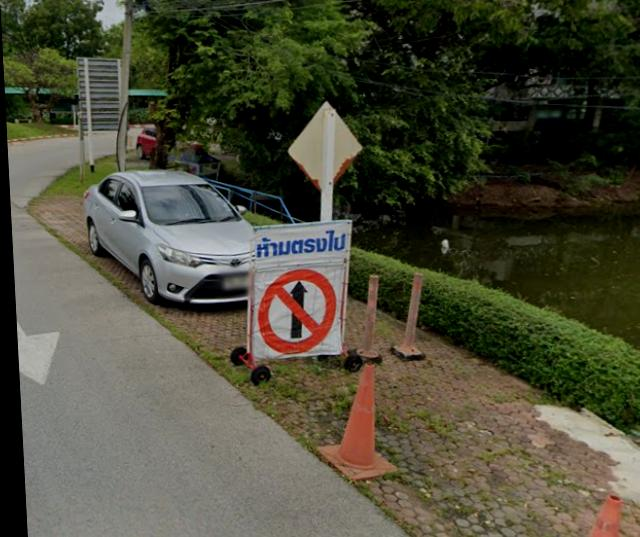not_go_straight: (256, 266, 335, 354)
